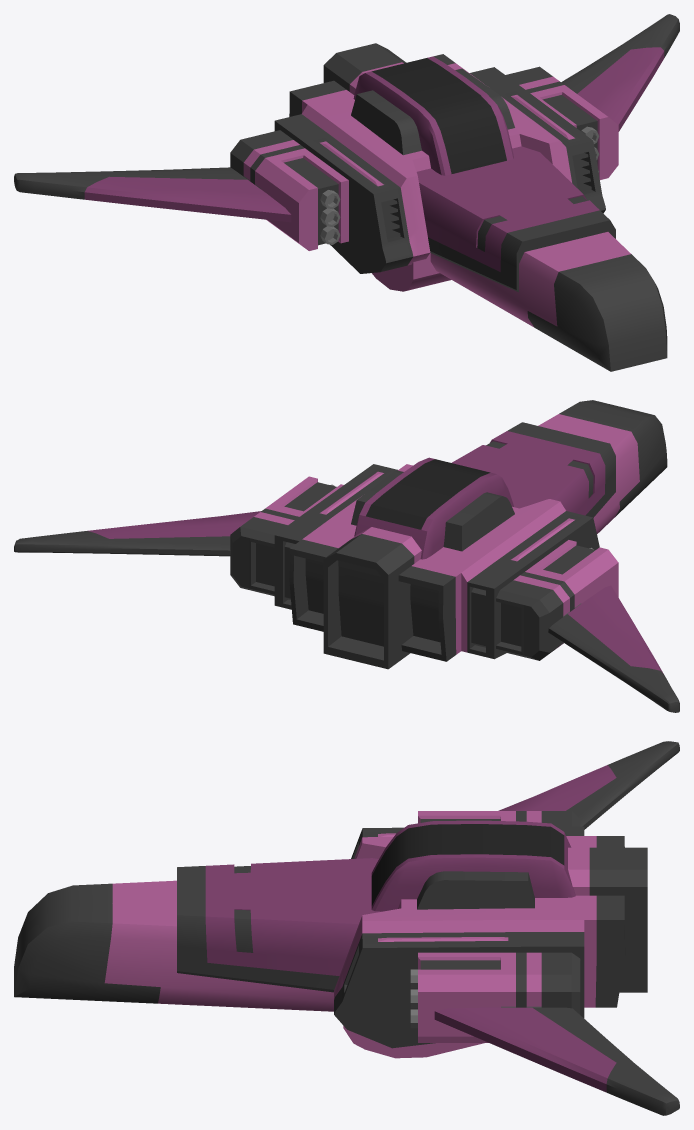
File: ship-flamingo.glb
The picture shows the model from 3 angles, top to bottom: view 1: azimuth 30°, elevation 25°; view 2: azimuth 150°, elevation 25°; view 3: azimuth 270°, elevation 25°; orthographic projection. The views are drawn at different scales.
Visible parts, largest first — view 1: Spaceship_FernandoTheFlamingo; view 2: Spaceship_FernandoTheFlamingo; view 3: Spaceship_FernandoTheFlamingo.
Part boxes in pixels (x1=…): Spaceship_FernandoTheFlamingo: x1=14, y1=14, x2=679, y2=371; Spaceship_FernandoTheFlamingo: x1=14, y1=400, x2=679, y2=712; Spaceship_FernandoTheFlamingo: x1=14, y1=741, x2=679, y2=1115.
Bounding box in the file's own units: 11.14 × 2.53 × 8.66.
Materials: 1 (1 with a texture image).
